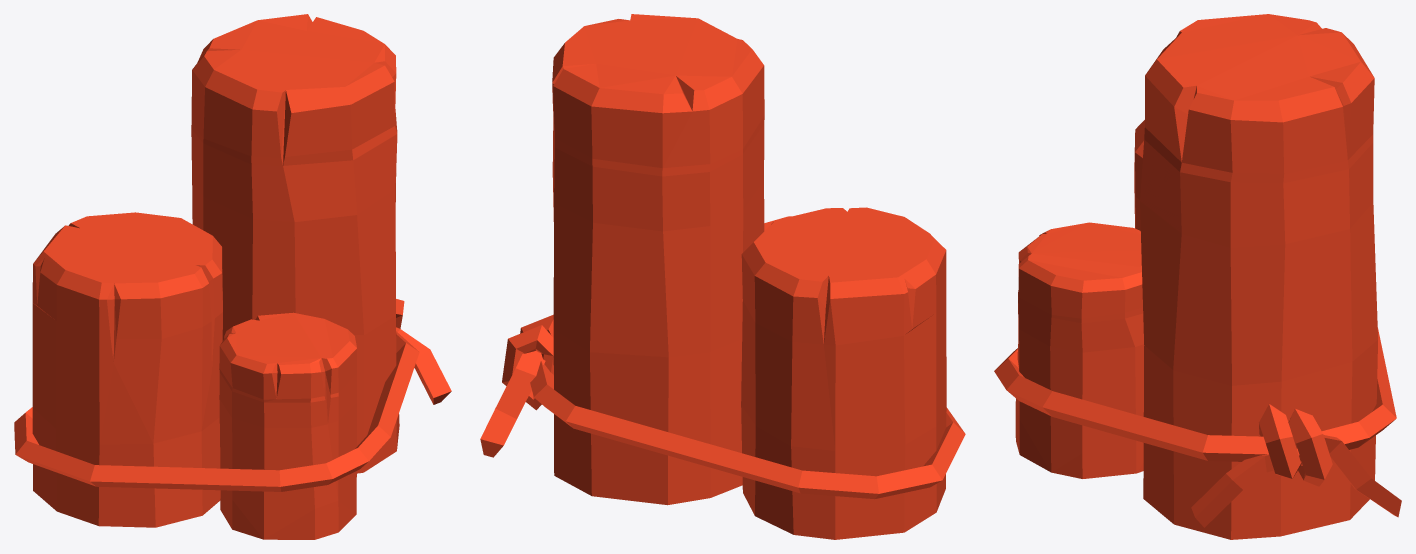
The model's file is SM_Decoration_Beach_B_City.fbx.
3 renders of one model, left to right at view 1: azimuth 30°, elevation 25°; view 2: azimuth 150°, elevation 25°; view 3: azimuth 270°, elevation 25°, orthographic. The views are drawn at different scales.
Parts seen in each view (by area): view 1: SM_Decoration_Beach_B_City; view 2: SM_Decoration_Beach_B_City; view 3: SM_Decoration_Beach_B_City.
Part boxes in pixels (left/top/right/bottom): SM_Decoration_Beach_B_City: left=14, top=14, right=451, bottom=539; SM_Decoration_Beach_B_City: left=480, top=14, right=965, bottom=539; SM_Decoration_Beach_B_City: left=994, top=14, right=1401, bottom=539.
Size of the model in its own units: 0.6858 by 0.625 by 0.5321.
